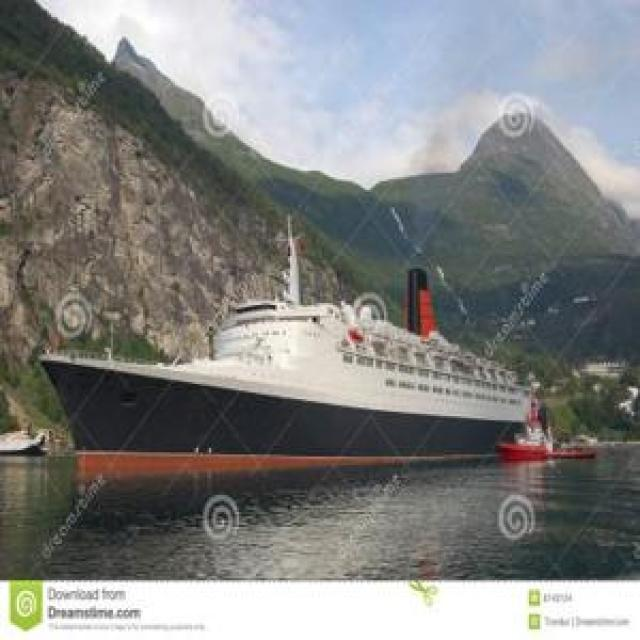passenger ship: (39, 264, 528, 457)
